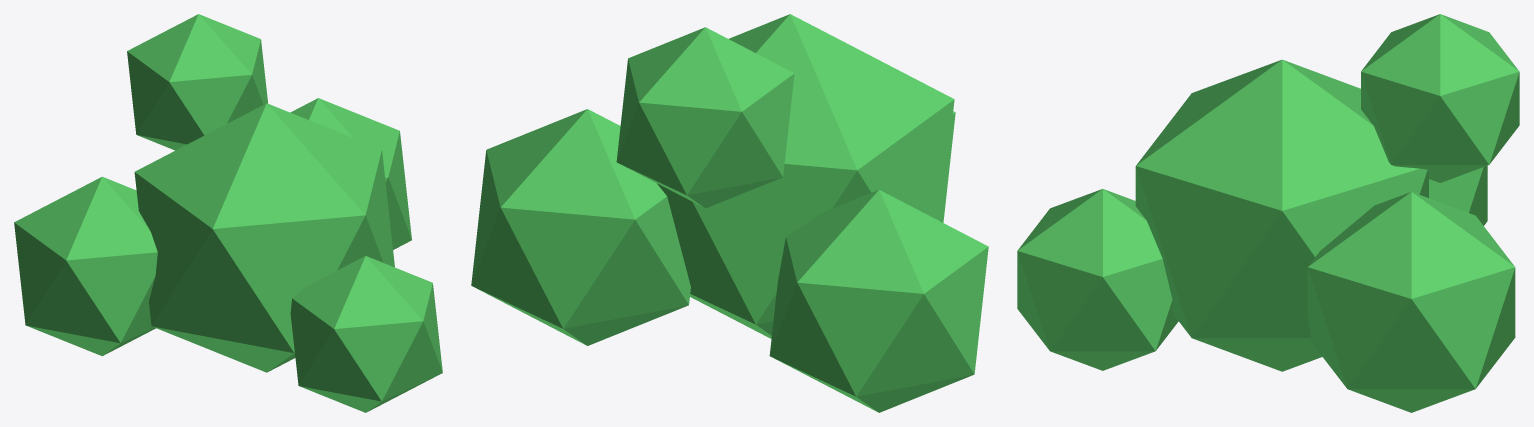
Rendered from SplitterBubbles.obj.
The picture shows the model from 3 angles, left to right: view 1: azimuth 30°, elevation 25°; view 2: azimuth 150°, elevation 25°; view 3: azimuth 270°, elevation 25°; orthographic projection. The views are drawn at different scales.
Parts seen in each view (by area): view 1: SplitterBubbles; view 2: SplitterBubbles; view 3: SplitterBubbles.
Boxes of the visible parts, left/top/right/bottom form: SplitterBubbles: left=14, top=14, right=442, bottom=412; SplitterBubbles: left=471, top=14, right=988, bottom=412; SplitterBubbles: left=1017, top=14, right=1519, bottom=412.
Bounding box in the file's own units: 0.7152 × 0.55 × 0.6997.
